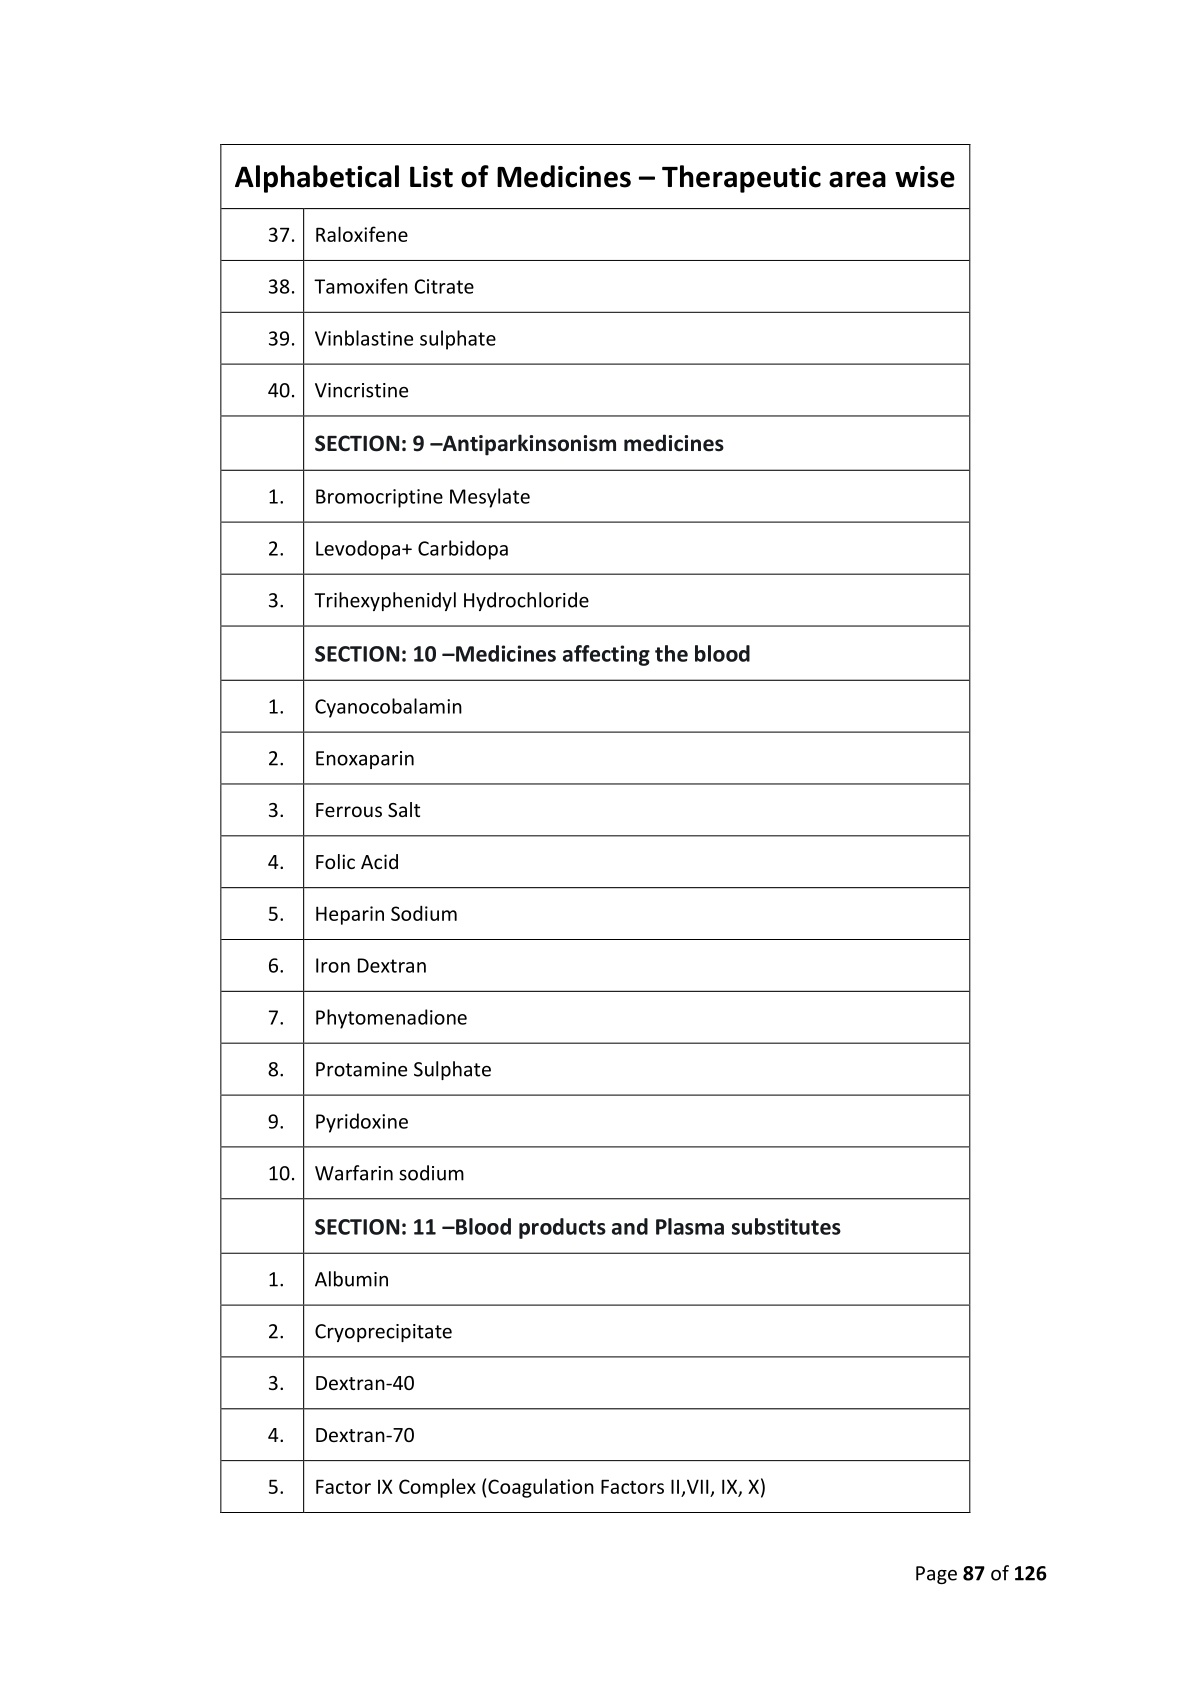merged_cells: (219, 143, 971, 1514)
